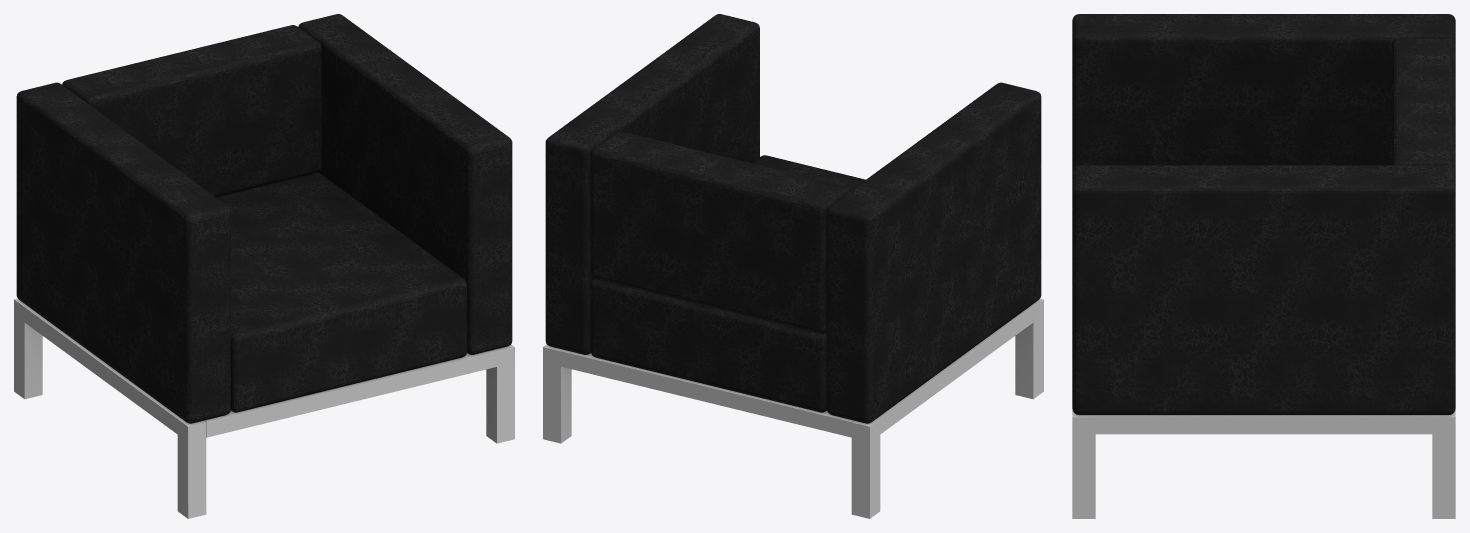
File: modern_armchair.glb
3 views of the same model, side by side, from view 1: azimuth 30°, elevation 25°; view 2: azimuth 150°, elevation 25°; view 3: azimuth 270°, elevation 25° (orthographic). The views are drawn at different scales.
Visible parts, largest first — view 1: modern_armchair_target; view 2: modern_armchair_target; view 3: modern_armchair_target.
Part boxes in pixels (<box>): modern_armchair_target: <box>14,14,514,518</box>; modern_armchair_target: <box>543,14,1043,518</box>; modern_armchair_target: <box>1072,14,1455,518</box>.
Bounding box in the file's own units: 0.8258 × 0.7271 × 0.7619.
Materials: 1 (1 with a texture image).
